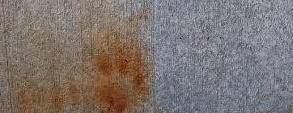Corrosion: (1, 1, 154, 113)
